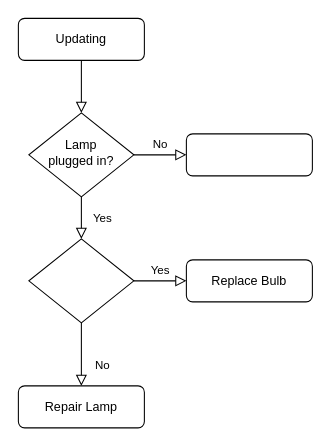
This 331x446 diagram has some shape labels left out. The shapes that lost their labels are listed below. From the top down, each one's box as (x1, y1, x2, y2) in pixels, then its label:
(185, 133, 312, 176): Plug in lamp
(28, 238, 134, 323): Bulb burned out?
